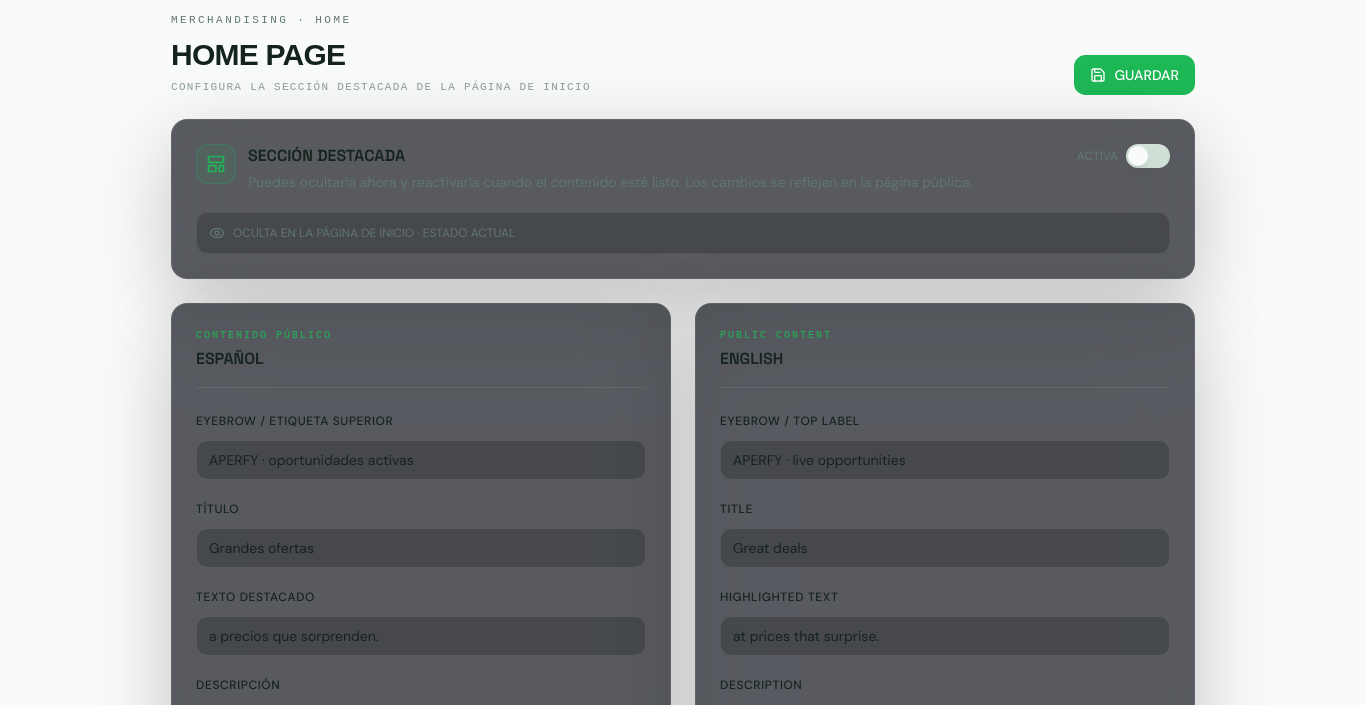
Test case: AdminHomepage › starts hidden and persists an enabled configuration
Later steps or results of the test are not shown.
Click the switch named "activa" at (1148, 156), box [1126,144,1170,168]
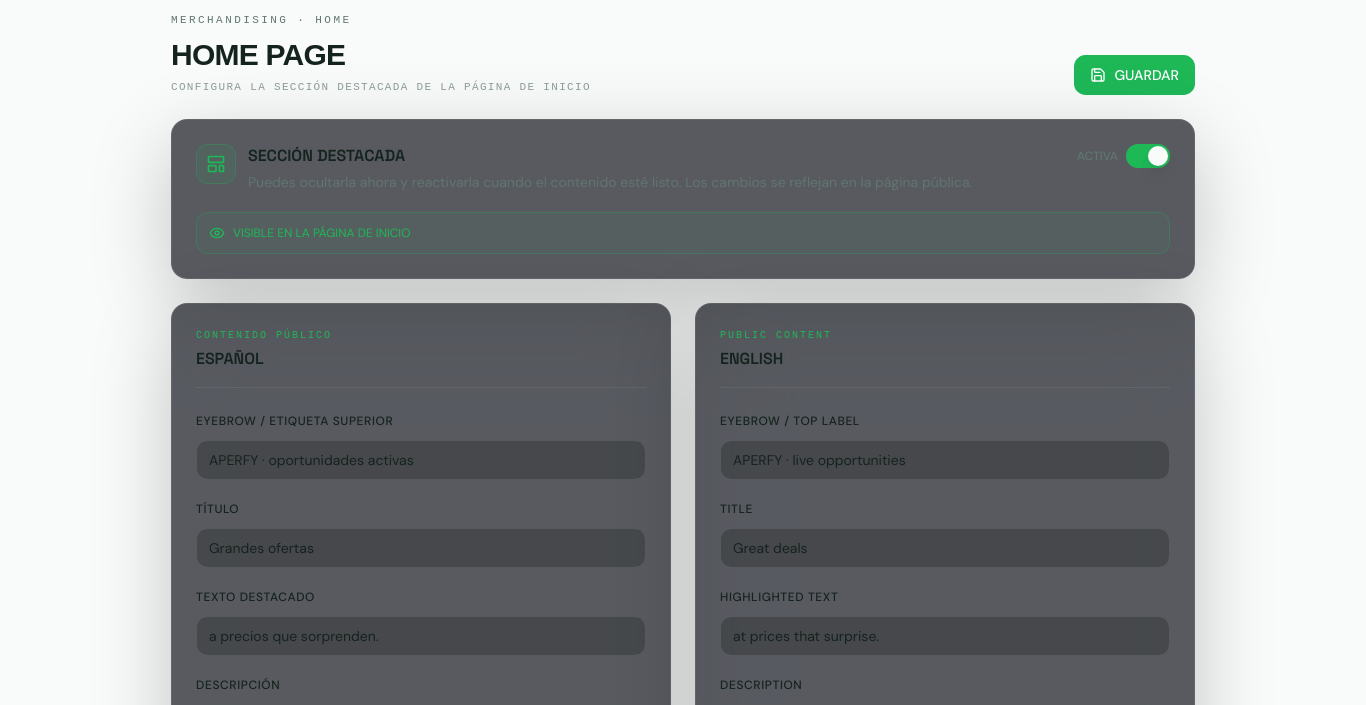
Now the switch named "activa" is checked, box [1126,144,1170,168]
